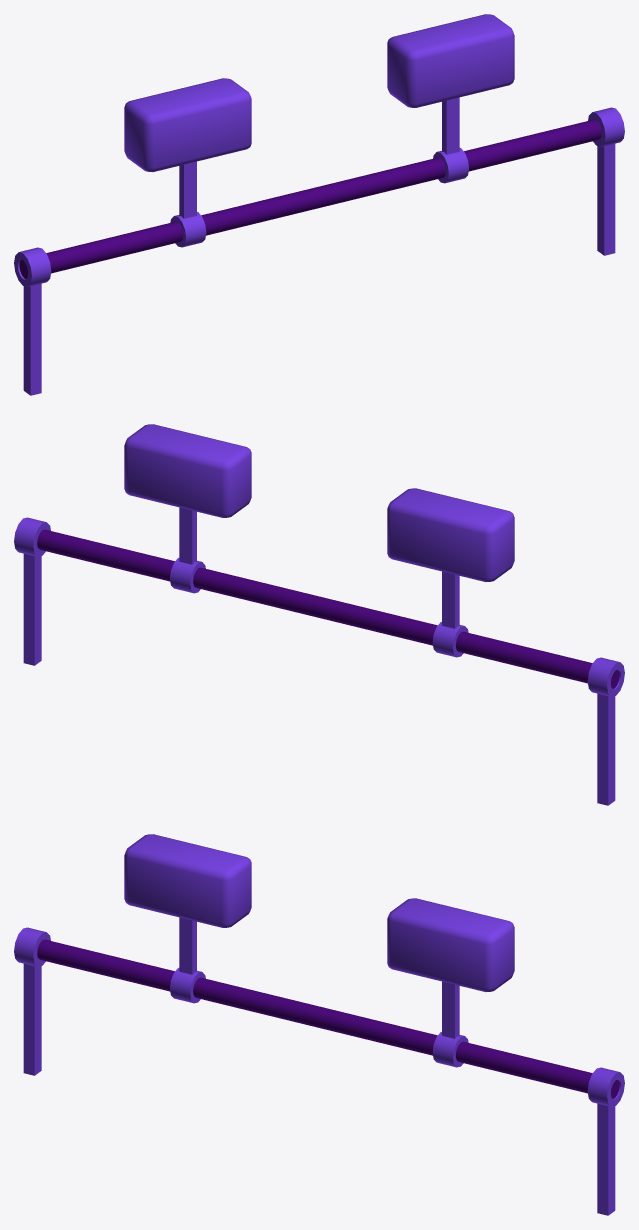
The model's file is barrier_violet.fbx.
3 renders of one model, top to bottom at view 1: azimuth 30°, elevation 25°; view 2: azimuth 150°, elevation 25°; view 3: azimuth 330°, elevation 25°, orthographic.
Parts seen in each view (by area): view 1: barrier_violet, barrier_2_violet, barrier_1_violet; view 2: barrier_violet, barrier_2_violet, barrier_1_violet; view 3: barrier_violet, barrier_1_violet, barrier_2_violet.
Boxes of the visible parts, x1=… form: barrier_violet: x1=14, y1=107, x2=624, y2=395; barrier_2_violet: x1=387, y1=14, x2=514, y2=183; barrier_1_violet: x1=124, y1=78, x2=251, y2=247; barrier_violet: x1=14, y1=517, x2=624, y2=805; barrier_2_violet: x1=124, y1=424, x2=251, y2=593; barrier_1_violet: x1=387, y1=488, x2=514, y2=657; barrier_violet: x1=14, y1=927, x2=624, y2=1215; barrier_1_violet: x1=124, y1=834, x2=251, y2=1003; barrier_2_violet: x1=387, y1=898, x2=514, y2=1067.
Bounding box in the file's own units: 1.96 × 0.8149 × 0.1508.
